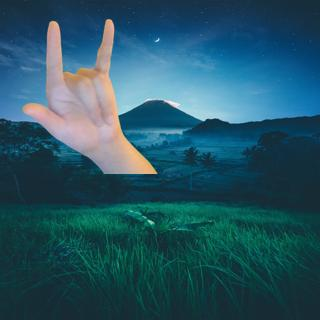ILY: (18, 14, 129, 157)
